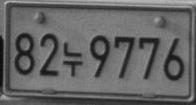2: (38, 32, 59, 76)
6: (163, 37, 185, 81)
7: (114, 35, 136, 80), (138, 36, 160, 80)
8: (14, 31, 35, 75)
9: (88, 33, 110, 78)
누: (62, 41, 83, 77)
